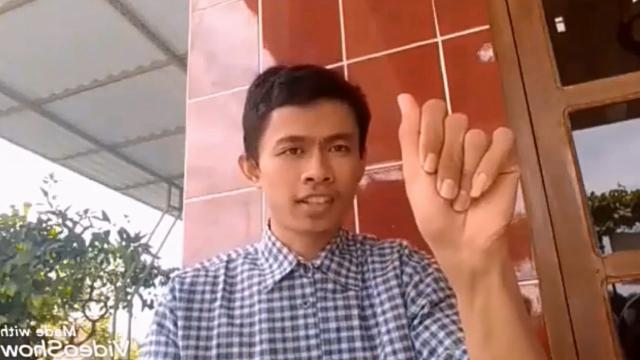A: (396, 88, 520, 262)
